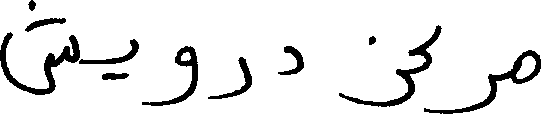د: (277, 44, 300, 76)
ر: (440, 66, 496, 112), (209, 55, 250, 100)
ز: (336, 33, 412, 107)
ش: (0, 0, 77, 95)
ك: (411, 22, 441, 73)
م: (512, 47, 539, 83)
و: (142, 44, 197, 107)
ي: (100, 37, 137, 81)
